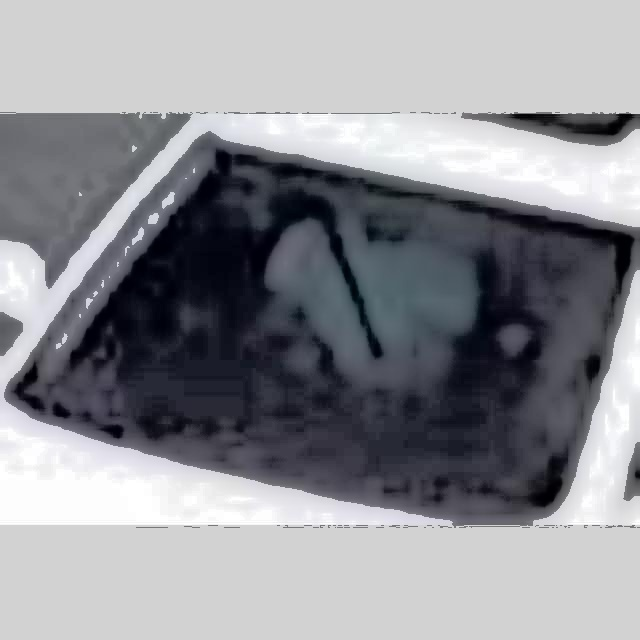pakai: (221, 175, 442, 396)
